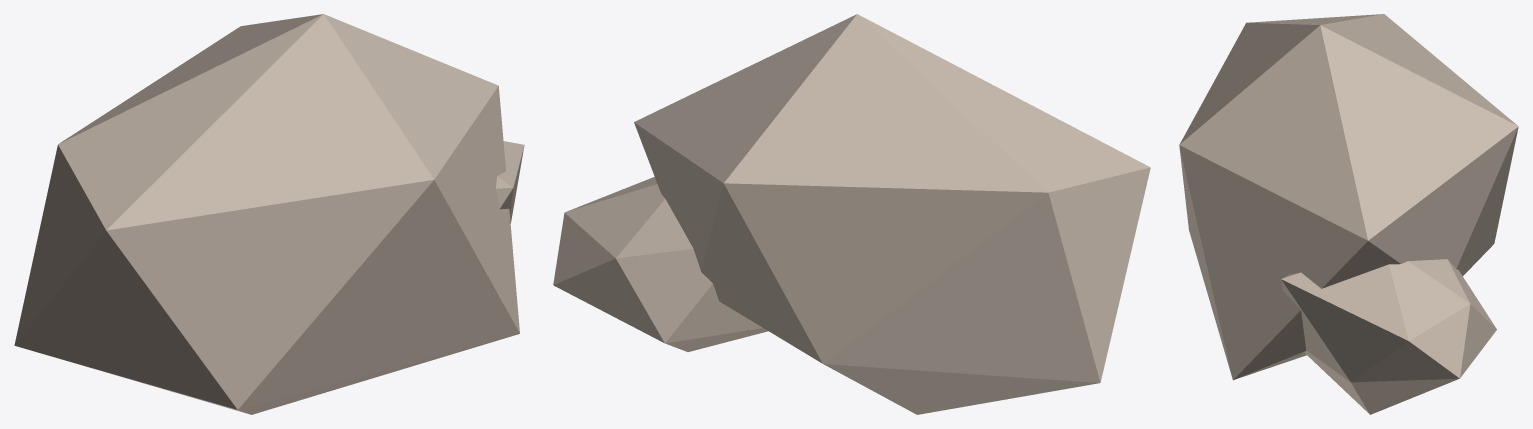
The model's file is Rock.fbx.
The picture shows the model from 3 angles, left to right: view 1: azimuth 30°, elevation 25°; view 2: azimuth 150°, elevation 25°; view 3: azimuth 270°, elevation 25°; orthographic projection. The views are drawn at different scales.
Visible parts, largest first — view 1: Rock; view 2: Rock; view 3: Rock.
Boxes of the visible parts, x1,y1,x2,y2 form: Rock: (14, 14, 524, 414); Rock: (553, 14, 1150, 414); Rock: (1179, 14, 1518, 414).
Size of the model in its own units: 3.57 by 2.51 by 2.2.
